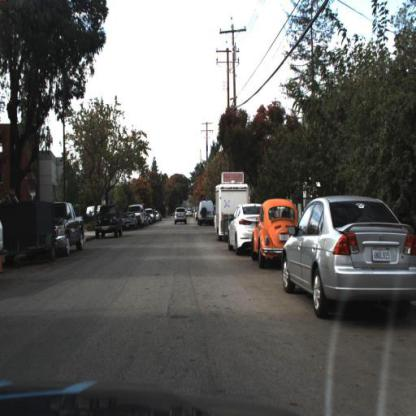car: (278, 190, 416, 316), (252, 197, 303, 270), (251, 195, 298, 268), (51, 200, 88, 262), (227, 204, 267, 252), (92, 202, 125, 242), (176, 202, 192, 228)
truck: (214, 167, 250, 244)
